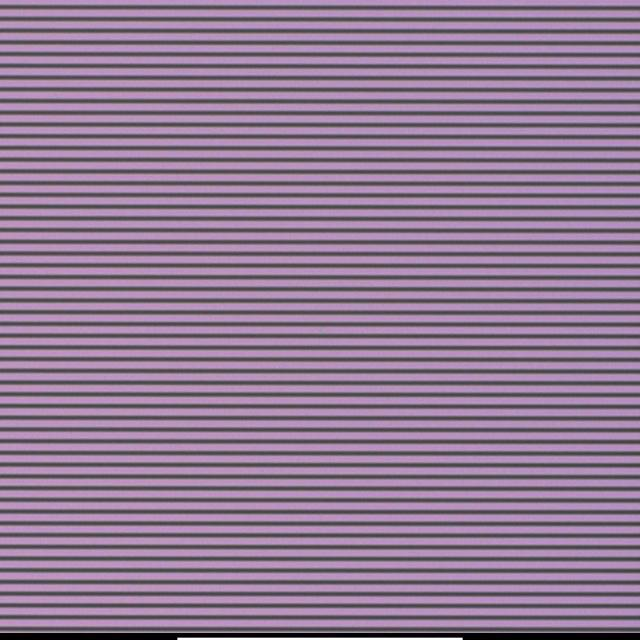nonvisual: (316, 326, 331, 338)
